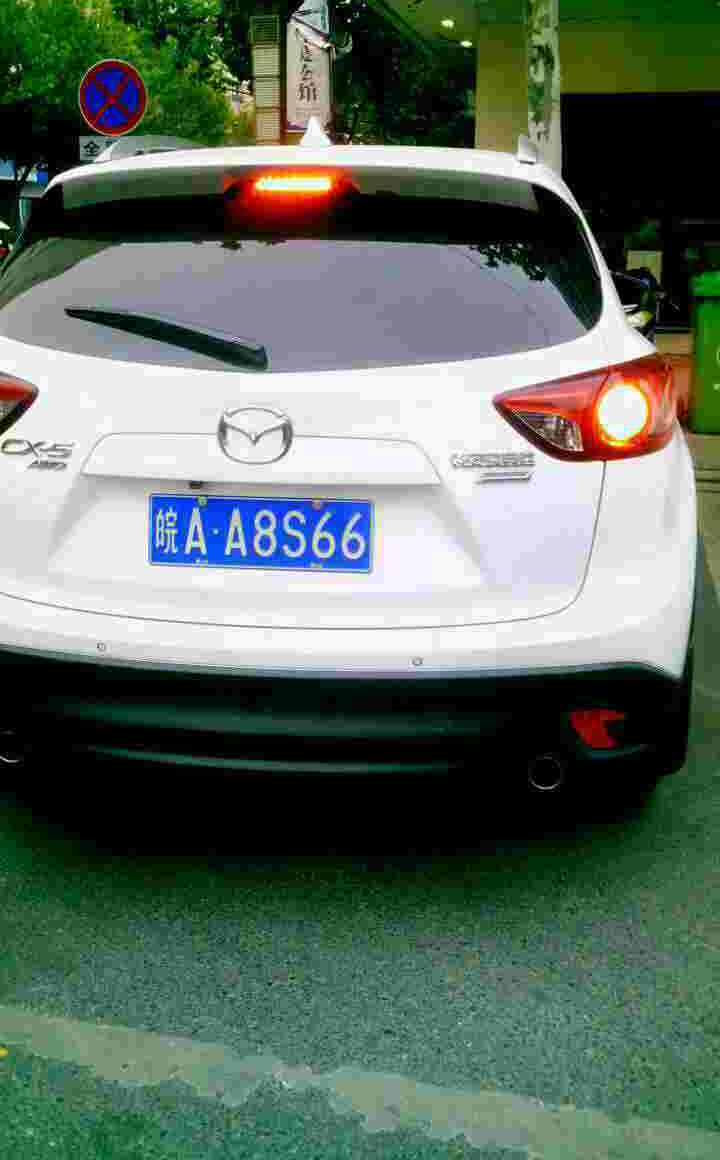license_plate: (153, 504, 375, 568)
